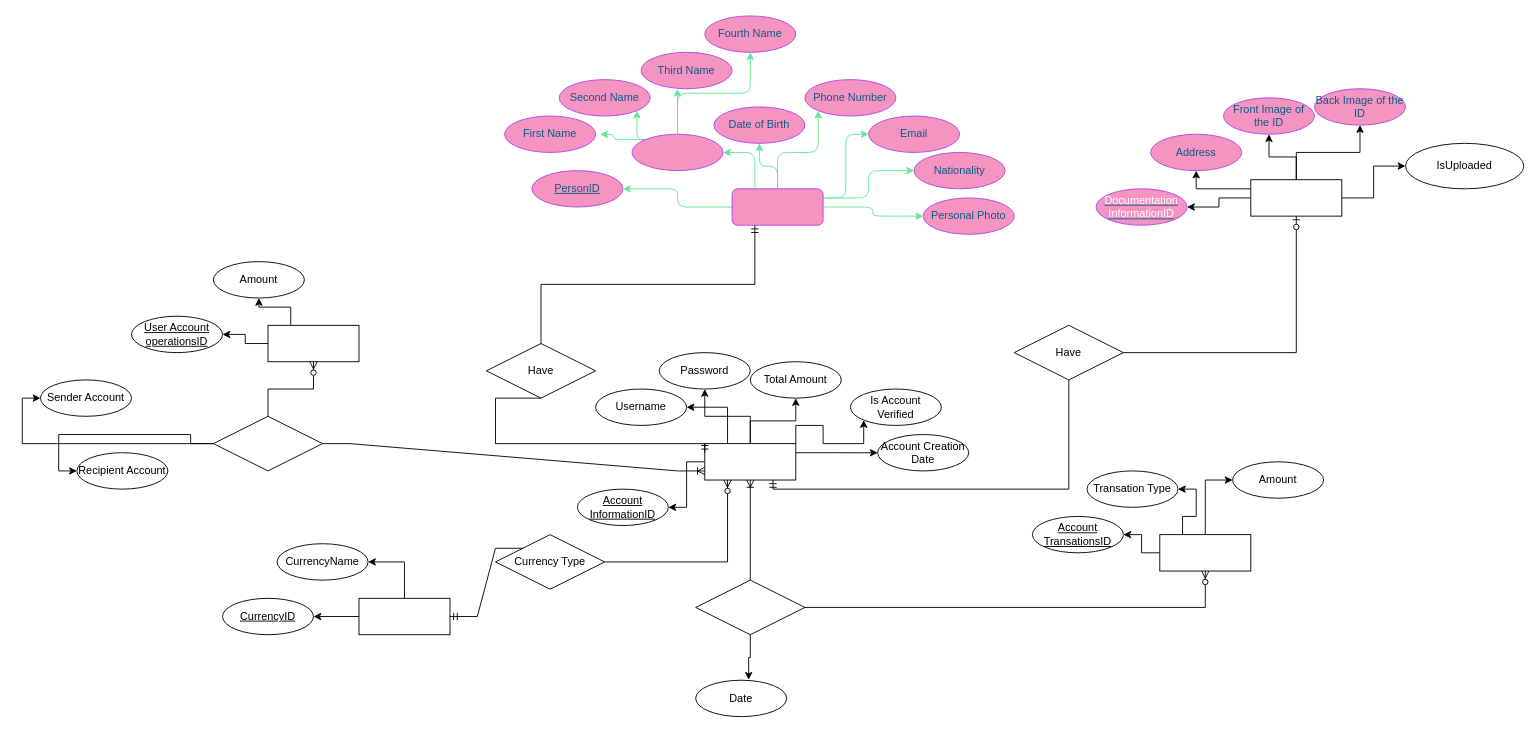
Some shapes in this 1540 by 733 pixel diagram are drawn without their labels. Here are the shapes that lost their labels. From the top down, the centre of each, then its label:
[677,152]: FullName
[777,206]: People
[1296,197]: Documentation Information
[313,343]: User Account operations
[267,443]: Transformation
[750,461]: Account Information
[1205,552]: Account Transations
[404,616]: Currency
[750,607]: Deposit
